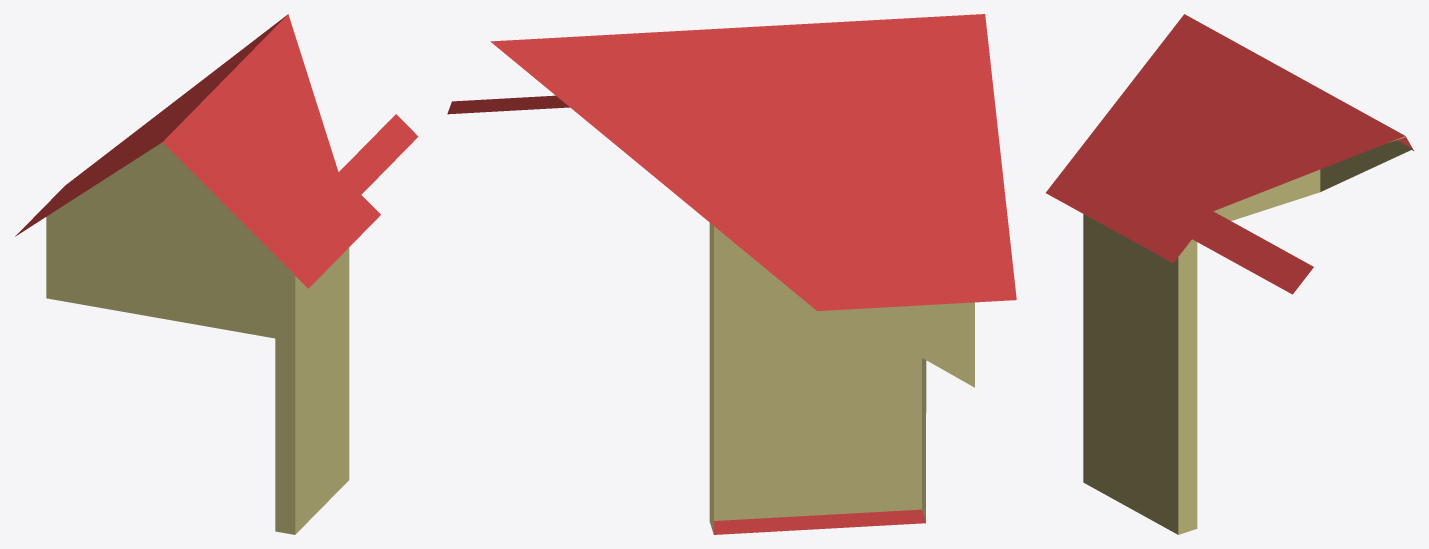
3 renders of one model, left to right at view 1: azimuth 30°, elevation 25°; view 2: azimuth 150°, elevation 25°; view 3: azimuth 270°, elevation 25°, orthographic. The views are drawn at different scales.
Bounding box in the file's own units: 13.78 × 10.21 × 12.87.
